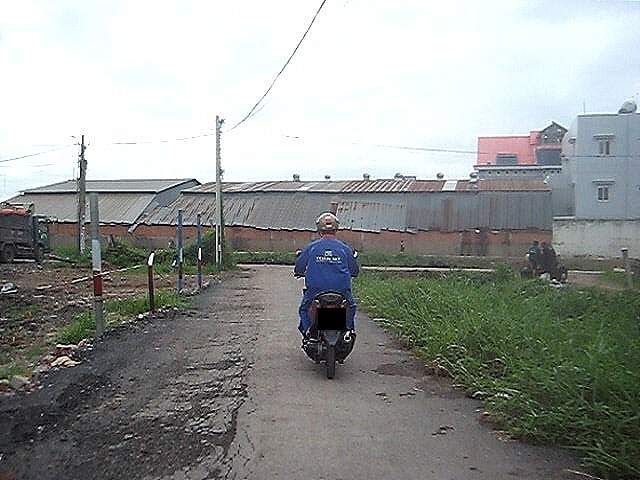hole: (1, 347, 243, 478)
